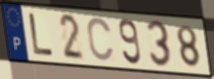2: (58, 12, 86, 62)
3: (145, 19, 173, 69)
8: (175, 24, 203, 69)
9: (119, 18, 143, 65)
C: (86, 16, 116, 63)
L: (27, 11, 55, 57)
